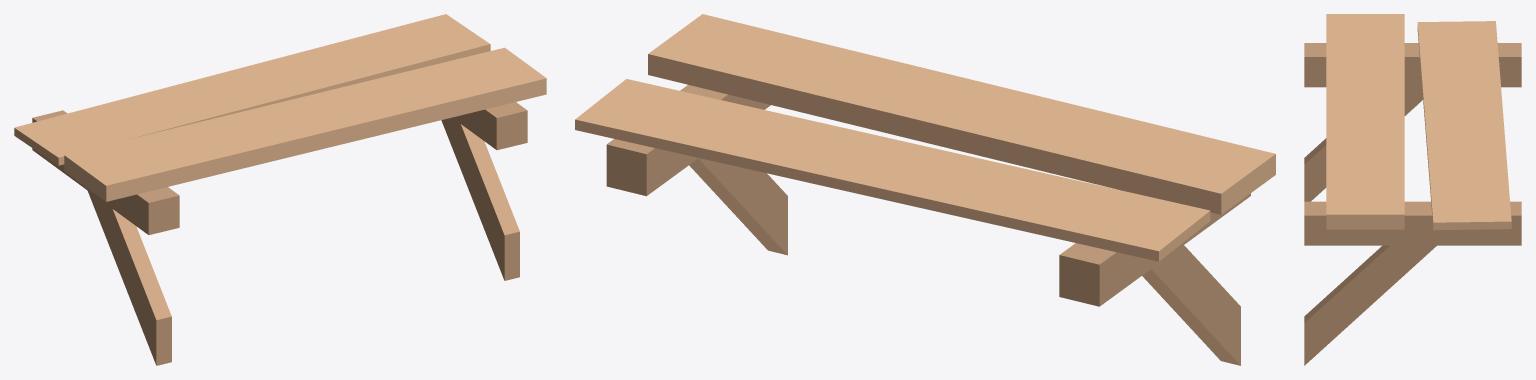
Rendered from bridgeHalf.glb.
3 views of the same model, side by side, from view 1: azimuth 30°, elevation 25°; view 2: azimuth 150°, elevation 25°; view 3: azimuth 270°, elevation 25° (orthographic). The views are drawn at different scales.
Visible parts, largest first — view 1: bridgeHalf(Clone); view 2: bridgeHalf(Clone); view 3: bridgeHalf(Clone).
Part boxes in pixels (x1,y1,x2,y2): bridgeHalf(Clone): [14, 14, 546, 365]; bridgeHalf(Clone): [575, 14, 1275, 365]; bridgeHalf(Clone): [1304, 14, 1521, 365].
Size of the model in its own units: 1 by 0.3925 by 0.4575.
